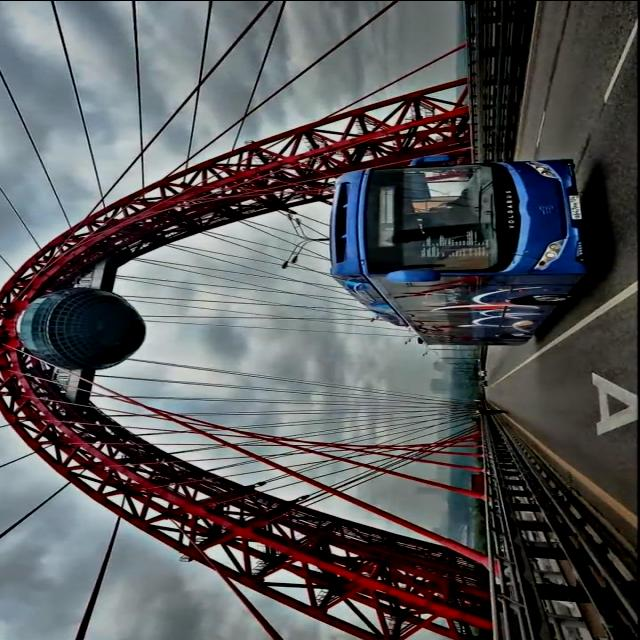bus: (333, 160, 589, 343)
